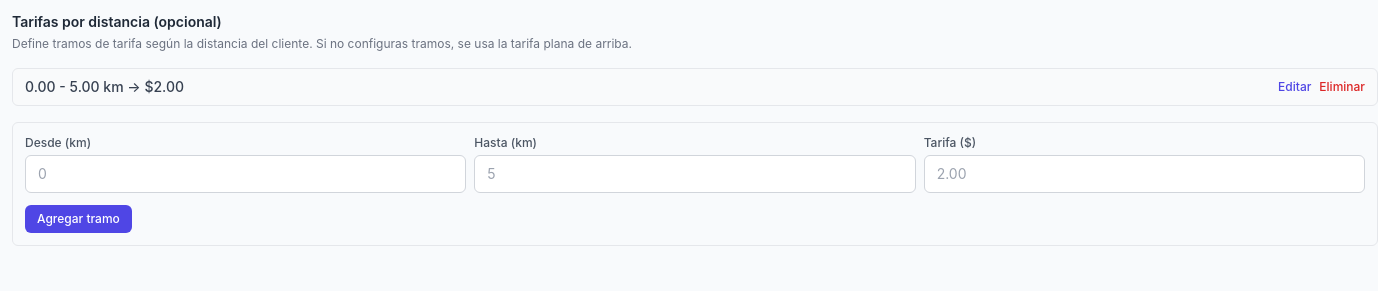
Test case: DeliveryFeeTiersEditor › rechaza un tramo que se solapa con uno existente
The width and height of the screenshot is (1378, 291).
Type "3" into the number field labelled "Desde (km)" at (246, 174), box left=25, top=155, right=466, bottom=193
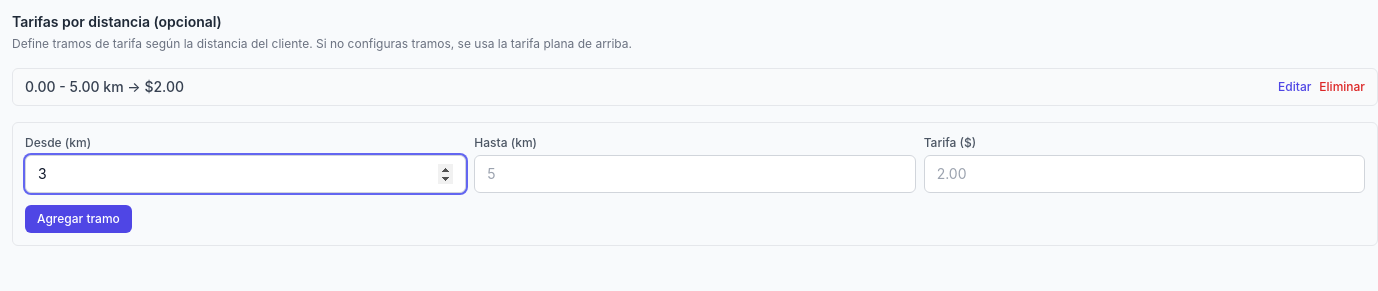
Type "8" into the number field labelled "Hasta (km)" at (695, 174), box left=474, top=155, right=916, bottom=193
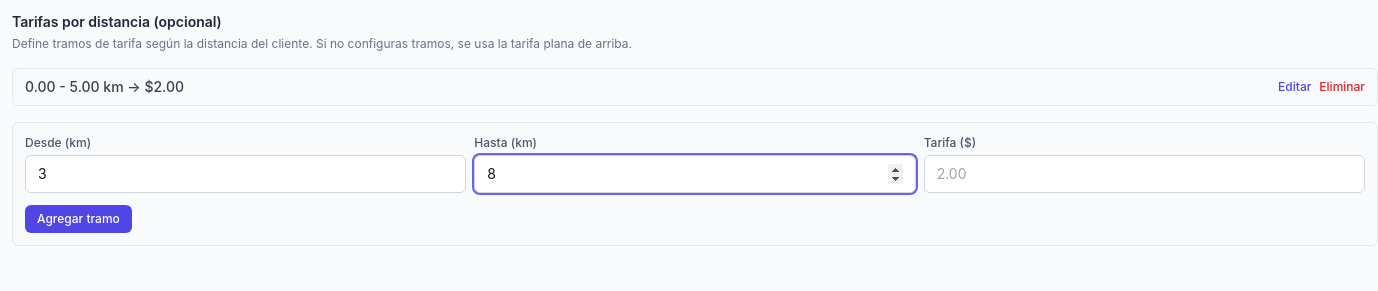
Type "3" into the number field labelled "Tarifa ($)" at (1144, 174), box left=924, top=155, right=1365, bottom=193
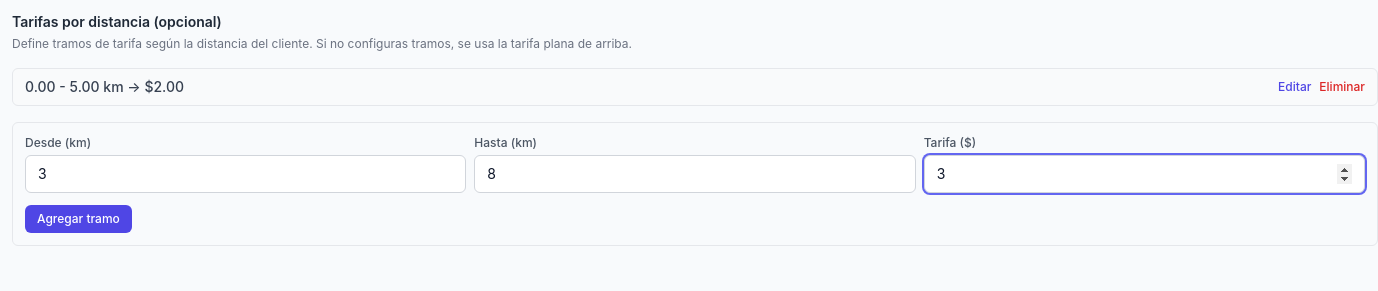
Click the button "Agregar tramo" at (78, 219), box left=25, top=205, right=132, bottom=233
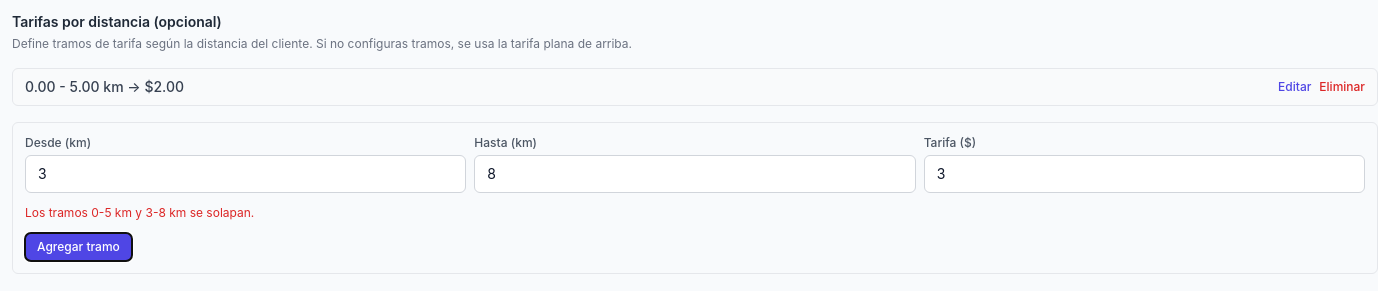
Now the text "Los tramos 0-5 km y 3-8 km se solapan." is shown, box left=25, top=205, right=254, bottom=220
